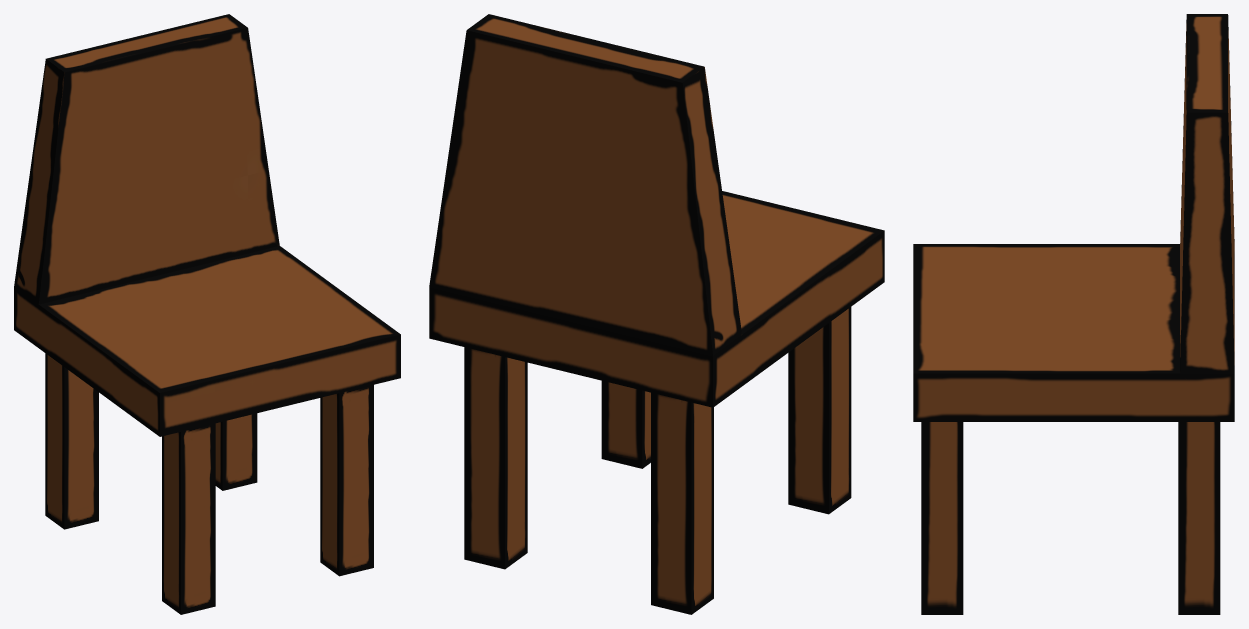
The model's file is Chair.fbx.
The picture shows the model from 3 angles, left to right: view 1: azimuth 30°, elevation 25°; view 2: azimuth 150°, elevation 25°; view 3: azimuth 270°, elevation 25°; orthographic projection. The views are drawn at different scales.
Parts seen in each view (by area): view 1: Chair; view 2: Chair; view 3: Chair.
Boxes of the visible parts, x1=… form: Chair: x1=14, y1=14, x2=400, y2=614; Chair: x1=429, y1=14, x2=884, y2=614; Chair: x1=913, y1=14, x2=1234, y2=614.
Size of what is drawn, in the model's own units: 0.8692 by 1.56 by 0.9108.
